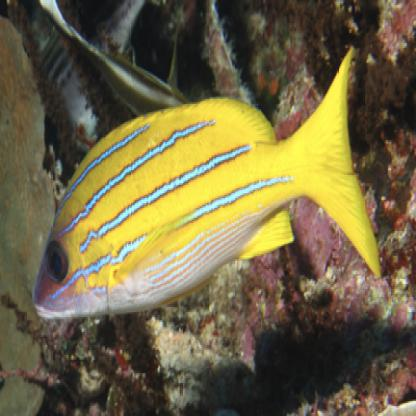Lutjanidae -Snappers-: (30, 45, 392, 328)
